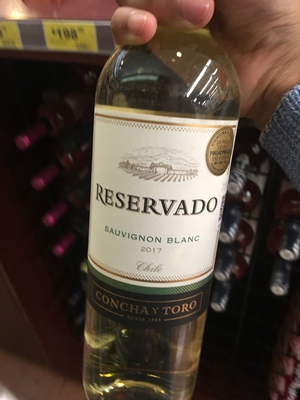reservado sauvignon blanc: (76, 24, 253, 400)
